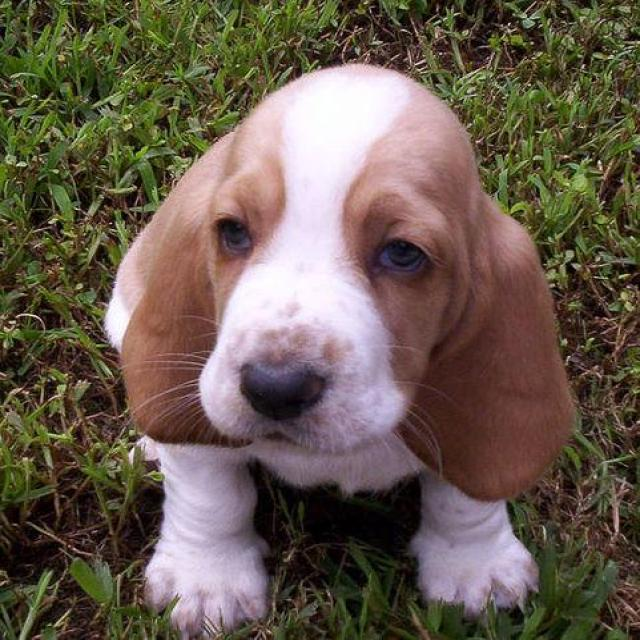basset: (107, 64, 578, 636)
